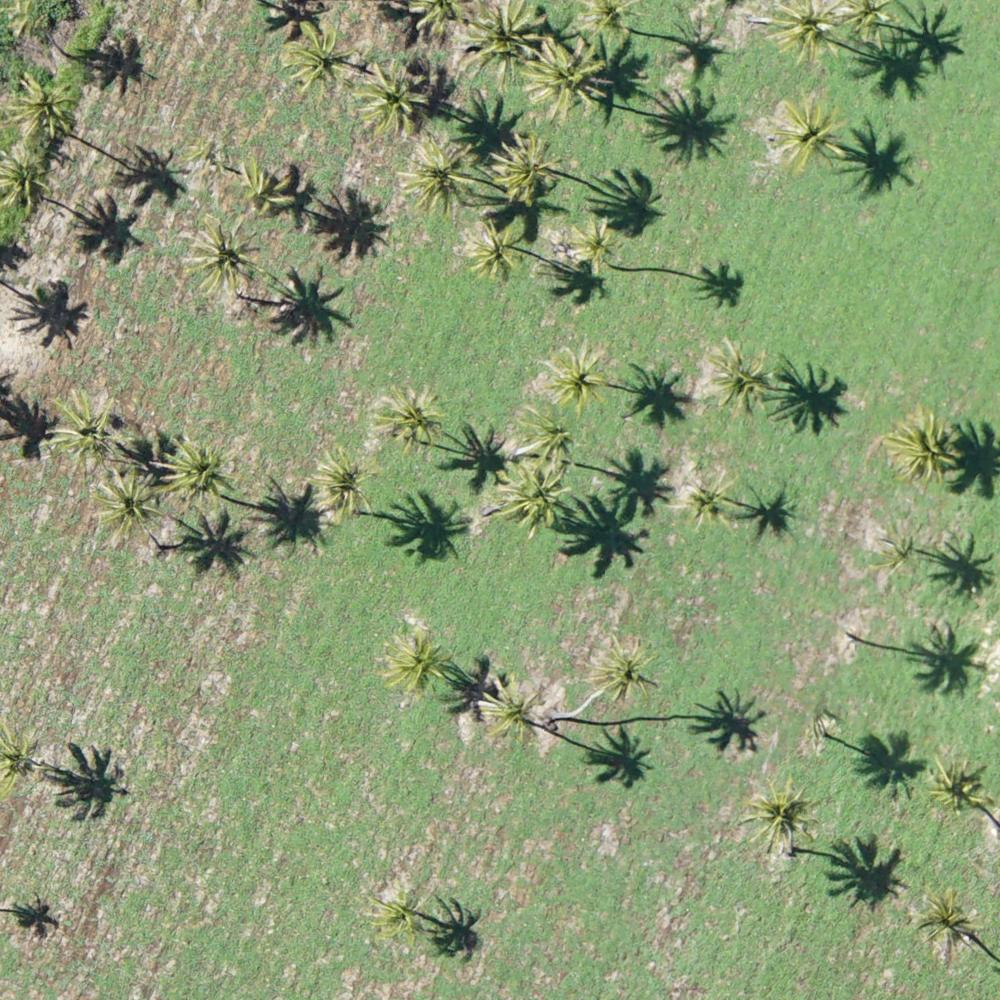not plam: (787, 918, 873, 993), (154, 16, 236, 92), (791, 586, 872, 660), (474, 562, 551, 637), (80, 651, 158, 725), (382, 767, 461, 839), (254, 798, 338, 865), (658, 558, 734, 632), (118, 779, 195, 852), (234, 677, 309, 750), (626, 897, 702, 969), (893, 316, 971, 386), (494, 897, 571, 967), (497, 782, 569, 855), (899, 214, 973, 285), (243, 361, 315, 433), (247, 915, 321, 985), (772, 199, 846, 269), (923, 95, 998, 164), (281, 564, 354, 634), (117, 314, 190, 384), (127, 930, 201, 997), (375, 281, 447, 348), (10, 558, 82, 624)
